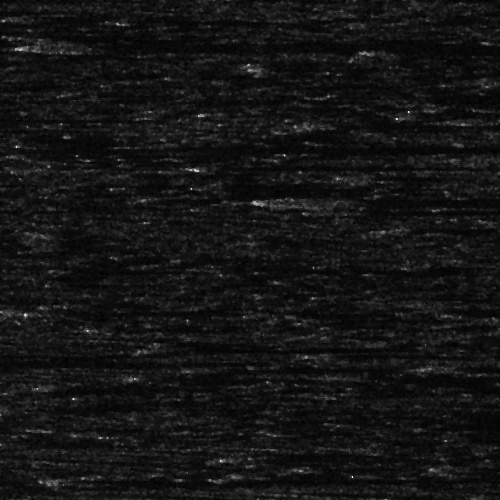object: (0, 34, 166, 53), (248, 190, 373, 209), (270, 200, 395, 219), (307, 369, 390, 380), (0, 306, 87, 315), (437, 362, 500, 371), (431, 308, 494, 315), (182, 473, 255, 478), (322, 350, 375, 355)
shadow: (72, 34, 500, 53), (311, 190, 500, 209), (332, 200, 500, 219), (349, 369, 500, 380), (218, 473, 500, 478), (35, 306, 185, 315), (0, 356, 184, 361), (349, 350, 500, 355), (0, 145, 49, 154), (462, 308, 500, 315), (474, 362, 500, 371)
